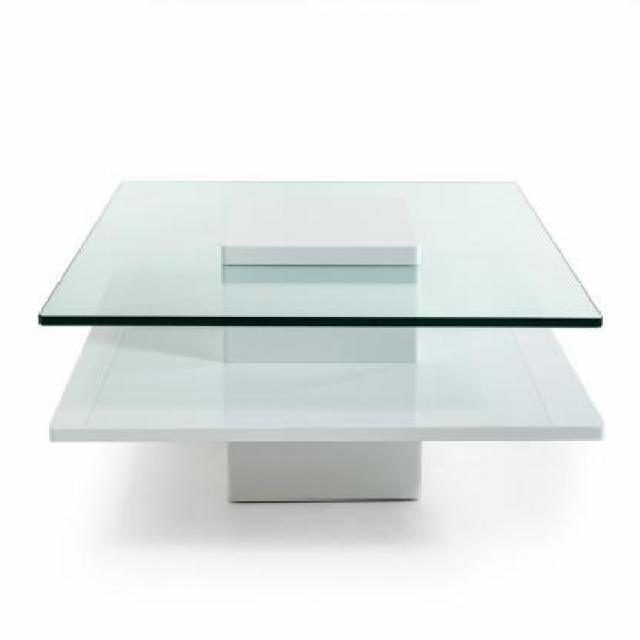table: (38, 179, 604, 506)
